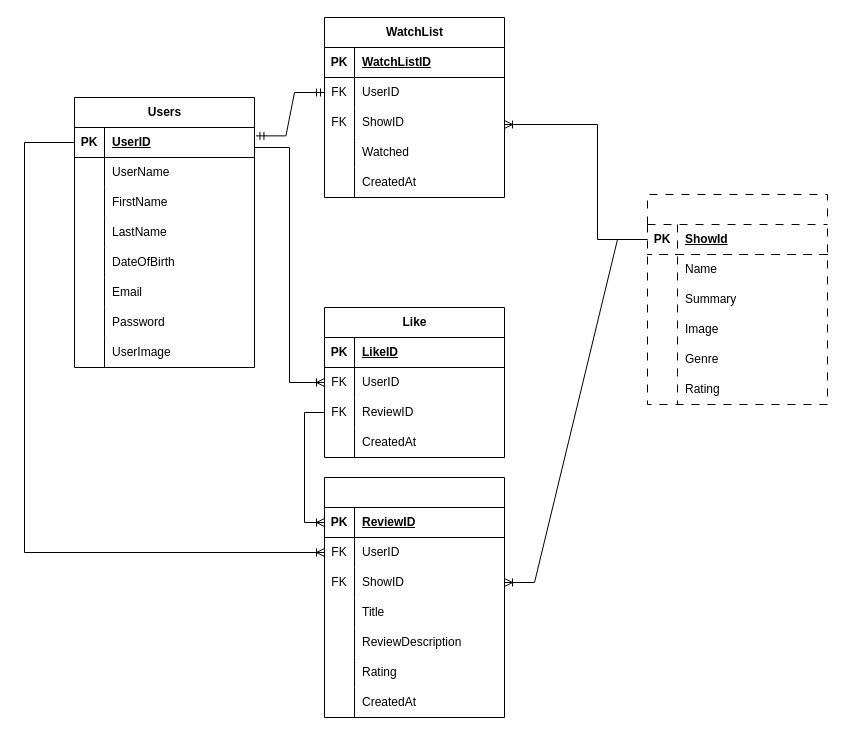
Some shapes in this 845 by 735 pixel diagram are drawn without their labels. Here are the shapes that lost their labels. From the top down, the box of each, then its label:
(646, 194, 828, 404): TVmazeAPI (external)
(324, 476, 504, 718): Reviews
